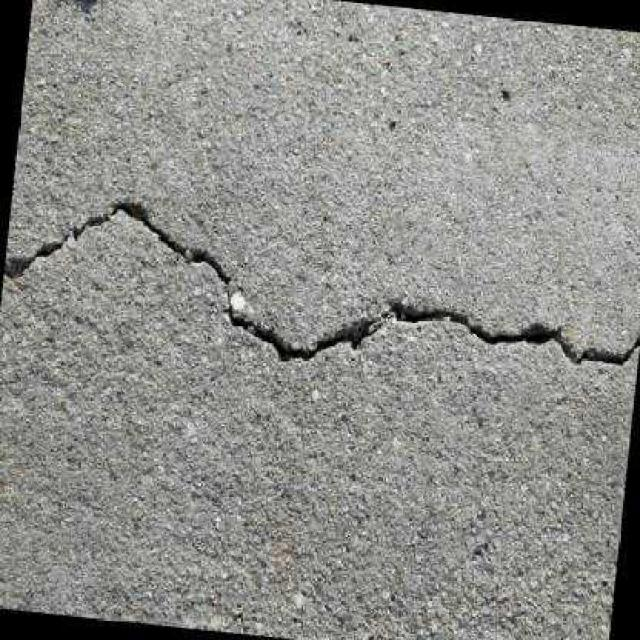D00: (3, 197, 640, 369)
